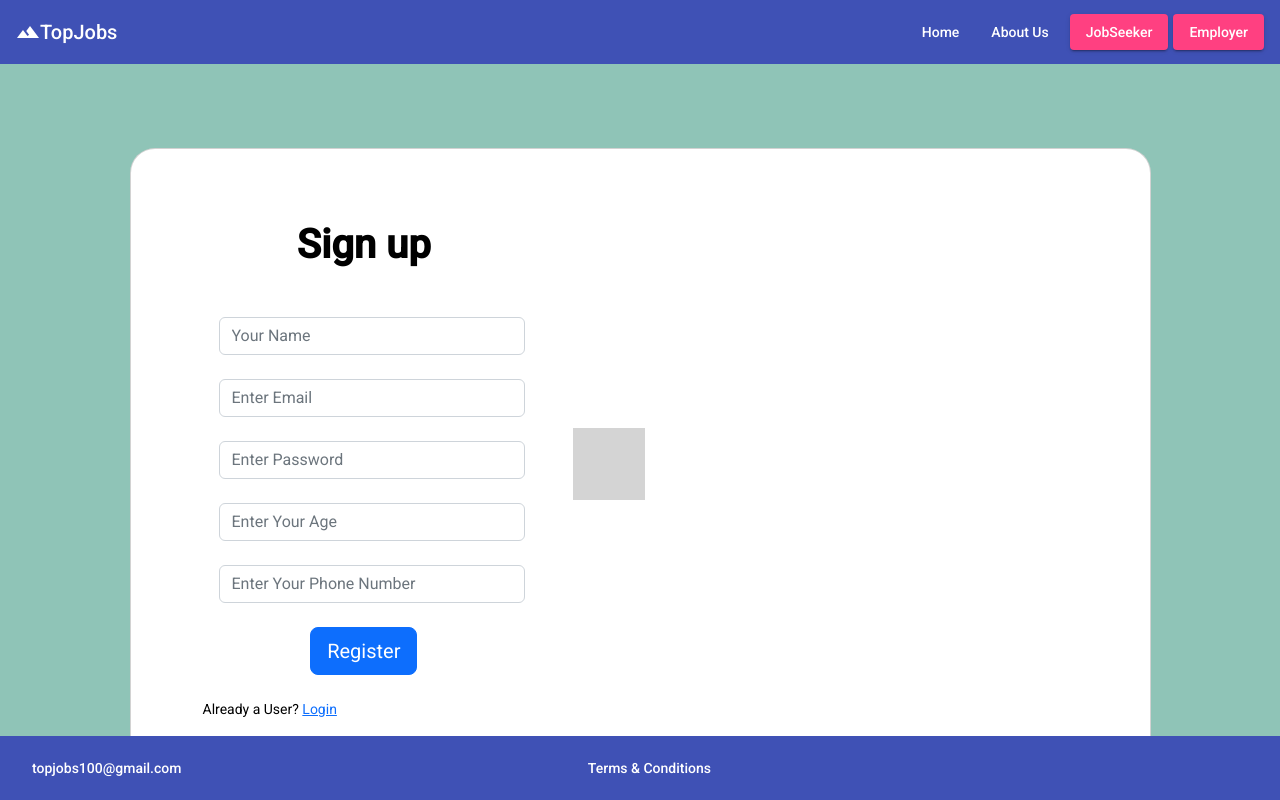
Test: Tests › Should visit login-jobseeker page
The width and height of the screenshot is (1280, 800).
Click the link with id "buttton".
click(320, 709)  # box [302,701,337,717]
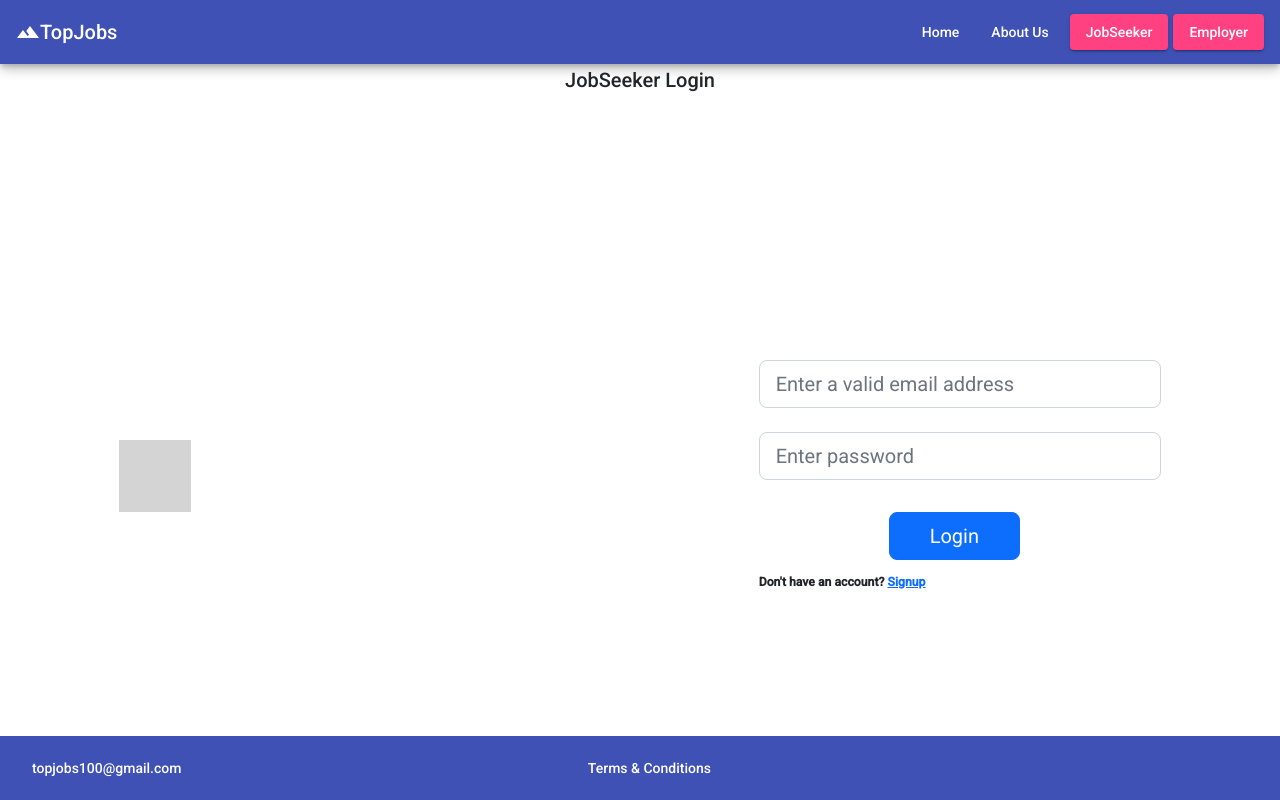
Now the heading "JobSeeker Login" is shown, box [565,68,715,92]
